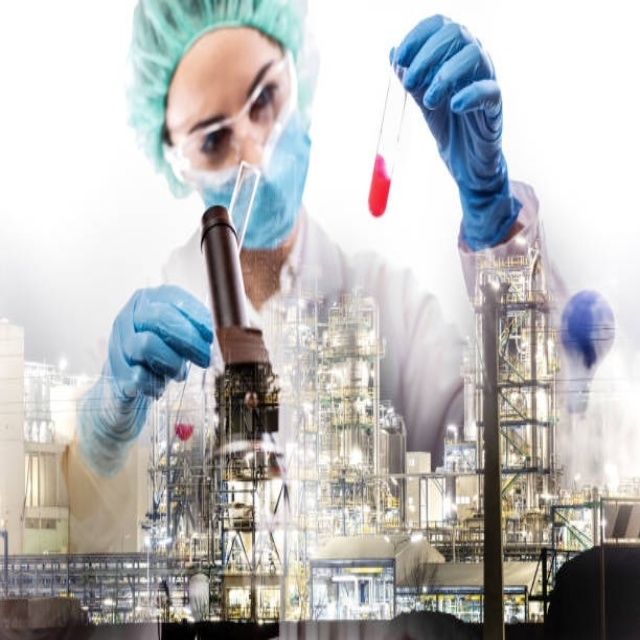Gafas: (164, 53, 293, 186)
Guantes: (387, 11, 523, 246), (75, 273, 213, 472)
Mascara: (187, 64, 311, 250)
